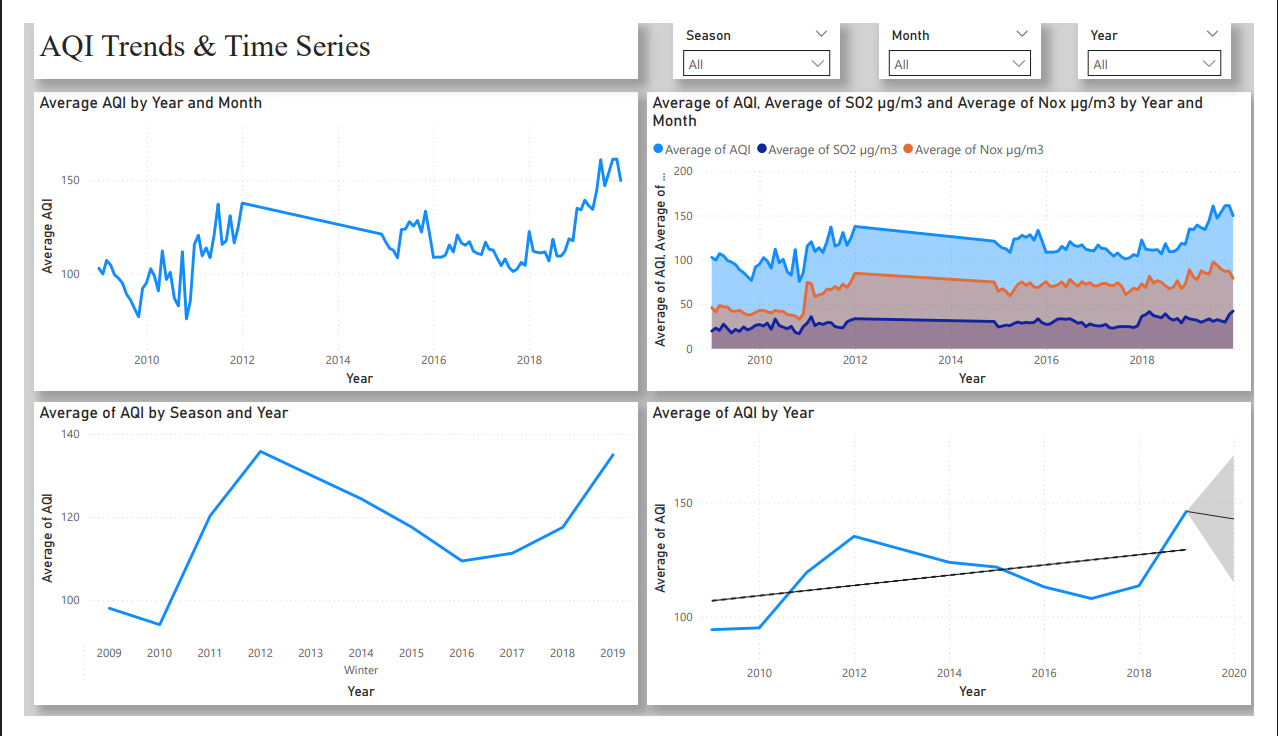

Layout of this report page (visuals, bound fields, positions):
{"tool":"powerbi","page":{"name":"AqiTrend","canvas":[1280,720],"ordinal":1},"visuals":[{"type":"lineChart","fields":{"Y":["PNQ_AQI_Final_Cleaned_WithLocation.Average AQI"],"Category":["PNQ_AQI_Final_Cleaned_WithLocation.Date.Variation.Date Hierarchy.Year","PNQ_AQI_Final_Cleaned_WithLocation.Date.Variation.Date Hierarchy.Month"]},"box":[11.3,71.8,628.2,309.9],"z":0},{"type":"lineChart","fields":{"Category":["PNQ_AQI_Final_Cleaned_WithLocation.Season","PNQ_AQI_Final_Cleaned_WithLocation.Date.Variation.Date Hierarchy.Year","PNQ_AQI_Final_Cleaned_WithLocation.Date.Variation.Date Hierarchy.Month","PNQ_AQI_Final_Cleaned_WithLocation.Date.Variation.Date Hierarchy.Day"],"Y":["Avg(PNQ_AQI_Final_Cleaned_WithLocation.AQI)"]},"box":[11.3,394.4,628.2,314.1],"z":1000},{"type":"areaChart","fields":{"Y":["Avg(PNQ_AQI_Final_Cleaned_WithLocation.AQI)","Avg(PNQ_AQI_Final_Cleaned_WithLocation.SO2 µg/m3)","Avg(PNQ_AQI_Final_Cleaned_WithLocation.Nox µg/m3)"],"Category":["PNQ_AQI_Final_Cleaned_WithLocation.Date.Variation.Date Hierarchy.Year","PNQ_AQI_Final_Cleaned_WithLocation.Date.Variation.Date Hierarchy.Month"]},"box":[649.3,71.8,628.2,309.9],"z":2000},{"type":"lineChart","fields":{"Category":["PNQ_AQI_Final_Cleaned_WithLocation.Date.Variation.Date Hierarchy.Year","PNQ_AQI_Final_Cleaned_WithLocation.Date.Variation.Date Hierarchy.Month"],"Y":["Avg(PNQ_AQI_Final_Cleaned_WithLocation.AQI)"]},"box":[649,394,628,314],"z":3000},{"type":"slicer","fields":{"Values":["PNQ_AQI_Final_Cleaned_WithLocation.Year"]},"box":[1097.2,0,159.2,57.7],"z":4000},{"type":"slicer","fields":{"Values":["PNQ_AQI_Final_Cleaned_WithLocation.Month"]},"box":[890.1,0,167.6,57.7],"z":5000},{"type":"slicer","fields":{"Values":["PNQ_AQI_Final_Cleaned_WithLocation.Season"]},"box":[676.1,0,173.2,57.7],"z":6000},{"type":"textbox","box":[11.3,0,628.2,57.7],"z":7000}]}

Visuals, with their boxes in screenshot pixels (x1, y1, x2, y2), scaled from the page's 1280x720 canvas onto the 1278x736 screenshot:
lineChart - PNQ_AQI_Final_Cleaned_WithLocation.Average AQI x PNQ_AQI_Final_Cleaned_WithLocation.Date.Variation.Date Hierarchy.Year: [x1=11, y1=73, x2=639, y2=390]
lineChart - PNQ_AQI_Final_Cleaned_WithLocation.Season x PNQ_AQI_Final_Cleaned_WithLocation.Date.Variation.Date Hierarchy.Year: [x1=11, y1=403, x2=639, y2=724]
areaChart - Avg(PNQ_AQI_Final_Cleaned_WithLocation.AQI) x Avg(PNQ_AQI_Final_Cleaned_WithLocation.SO2 µg/m3): [x1=648, y1=73, x2=1276, y2=390]
lineChart - PNQ_AQI_Final_Cleaned_WithLocation.Date.Variation.Date Hierarchy.Year x PNQ_AQI_Final_Cleaned_WithLocation.Date.Variation.Date Hierarchy.Month: [x1=648, y1=403, x2=1275, y2=724]
slicer - PNQ_AQI_Final_Cleaned_WithLocation.Year: [x1=1095, y1=0, x2=1254, y2=59]
slicer - PNQ_AQI_Final_Cleaned_WithLocation.Month: [x1=889, y1=0, x2=1056, y2=59]
slicer - PNQ_AQI_Final_Cleaned_WithLocation.Season: [x1=675, y1=0, x2=848, y2=59]
textbox: [x1=11, y1=0, x2=639, y2=59]
